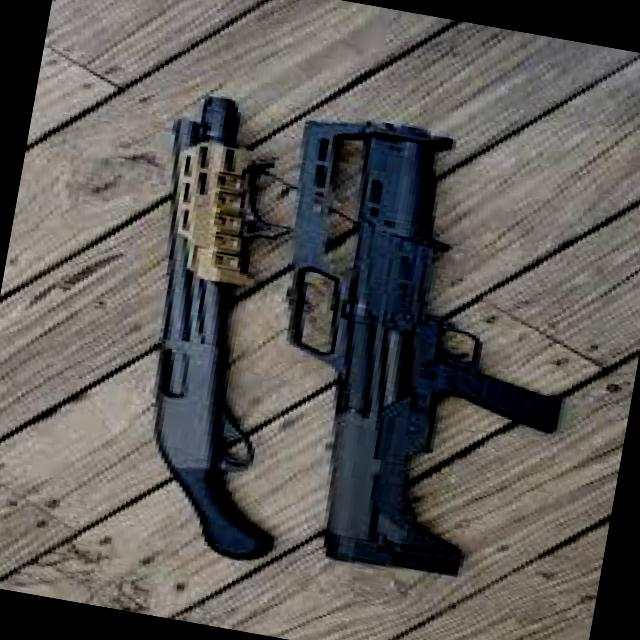long weapon: (290, 99, 545, 602), (104, 76, 279, 578)
